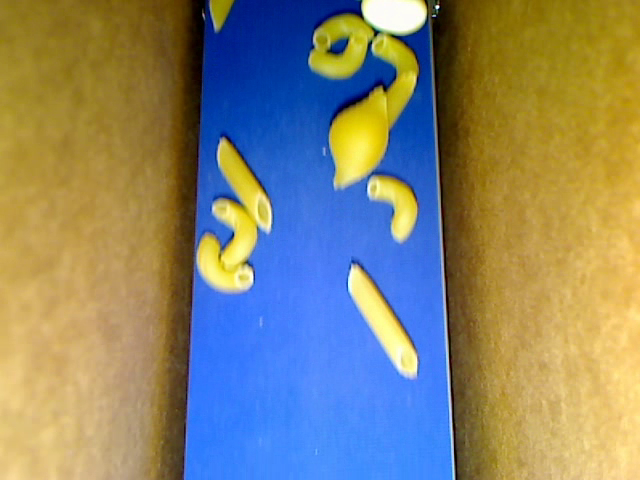elbow: (197, 231, 255, 293), (368, 175, 417, 244), (210, 197, 257, 268), (307, 31, 367, 78), (371, 31, 419, 80), (313, 14, 372, 52)
penne: (348, 263, 417, 379), (216, 136, 272, 234), (386, 71, 415, 131), (209, 1, 233, 33)
shell: (328, 85, 388, 190)
